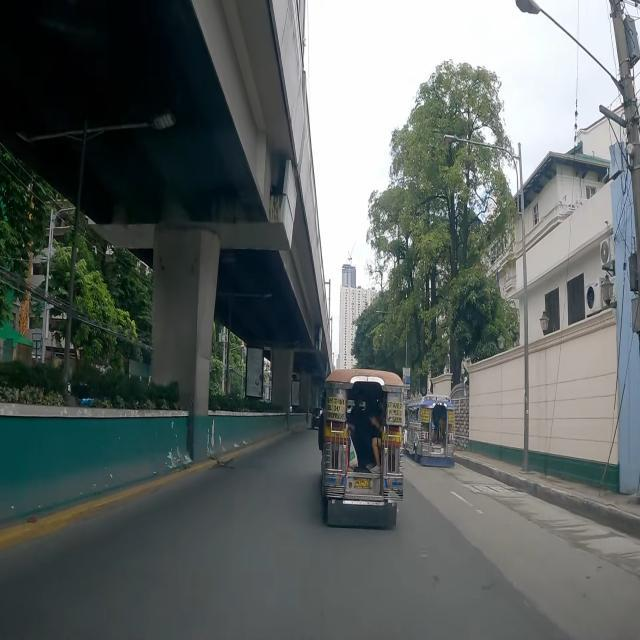jeepney: (319, 368, 405, 528), (404, 394, 454, 466)
